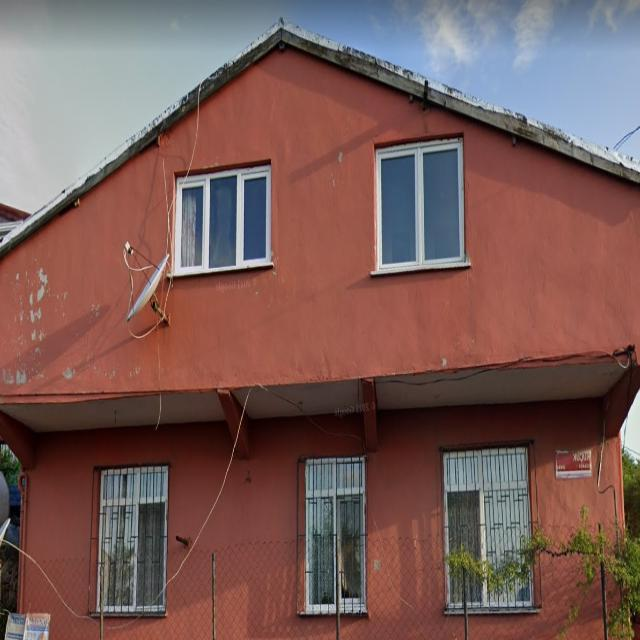Building: (0, 21, 640, 640)
